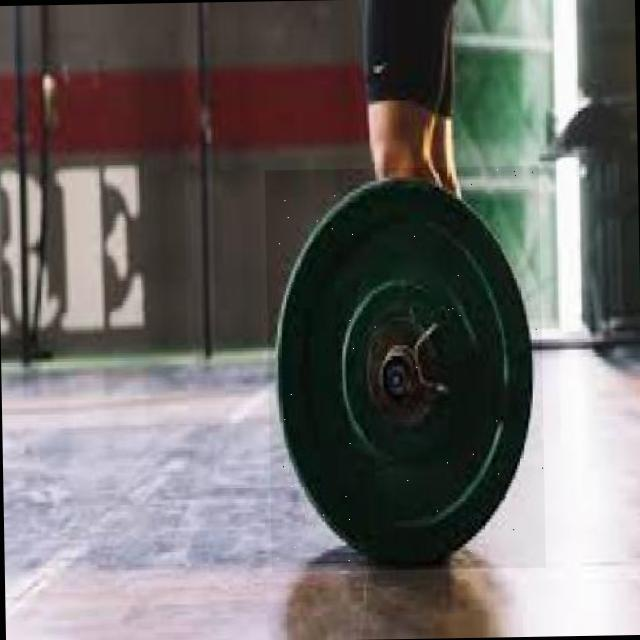barbell: (266, 166, 547, 573)
